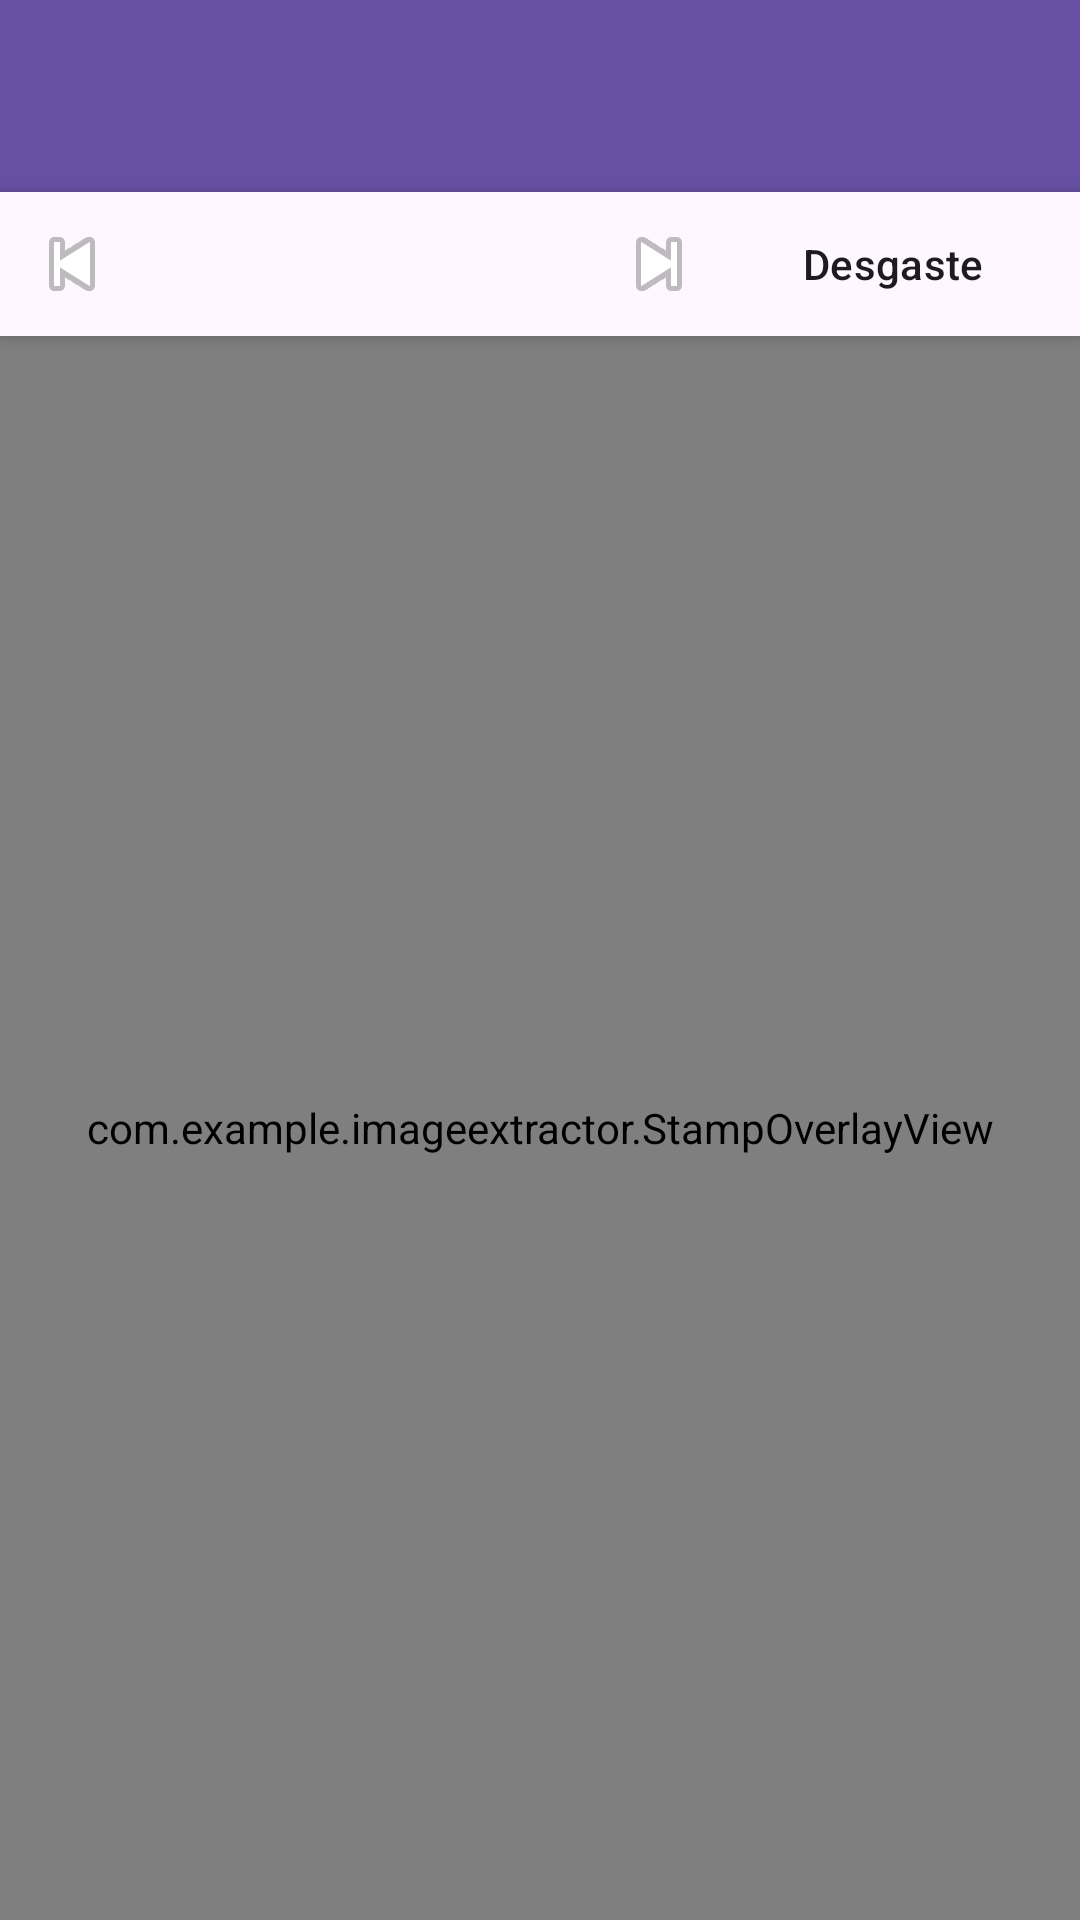

Locate icon controls on the screen. Image size 1080px x 1920px, boxes as (x1, y1, x2, y2).
Página Anterior: (49, 237, 95, 291)
Página Siguiente: (636, 237, 682, 291)
